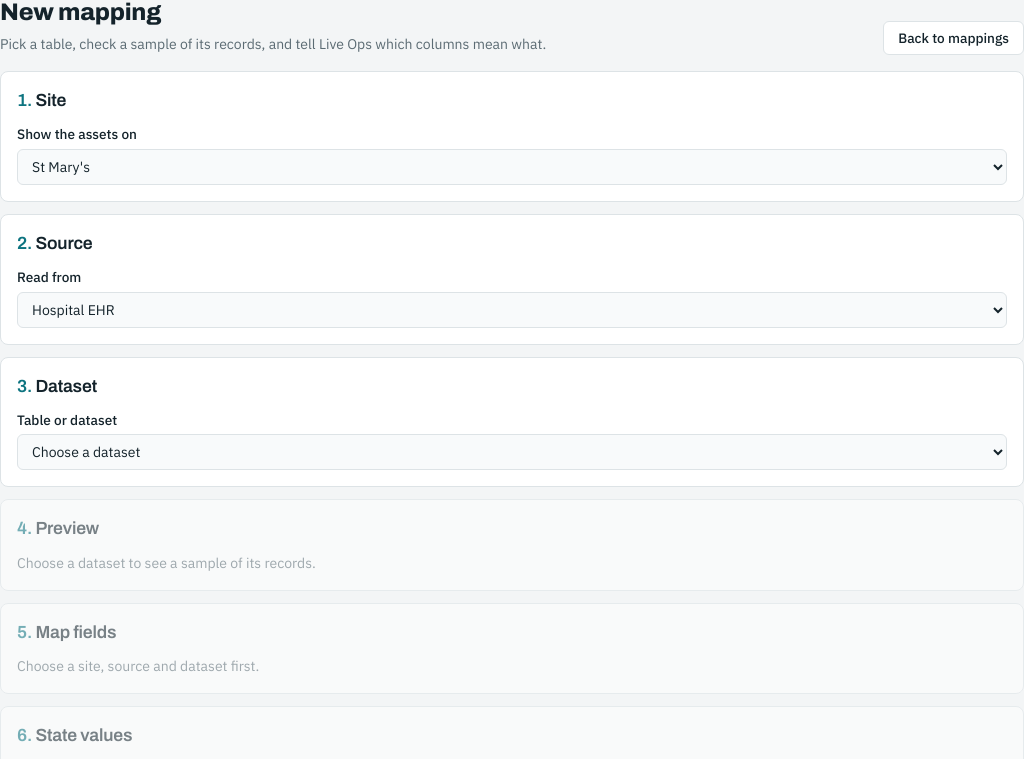
Scenario: client-side checks and API 422 problems are shown inline
Select "public.beds (5 columns)" in the dropdown labelled "Table or dataset": (512, 452) [17,434,1007,470]
(page scrolled)
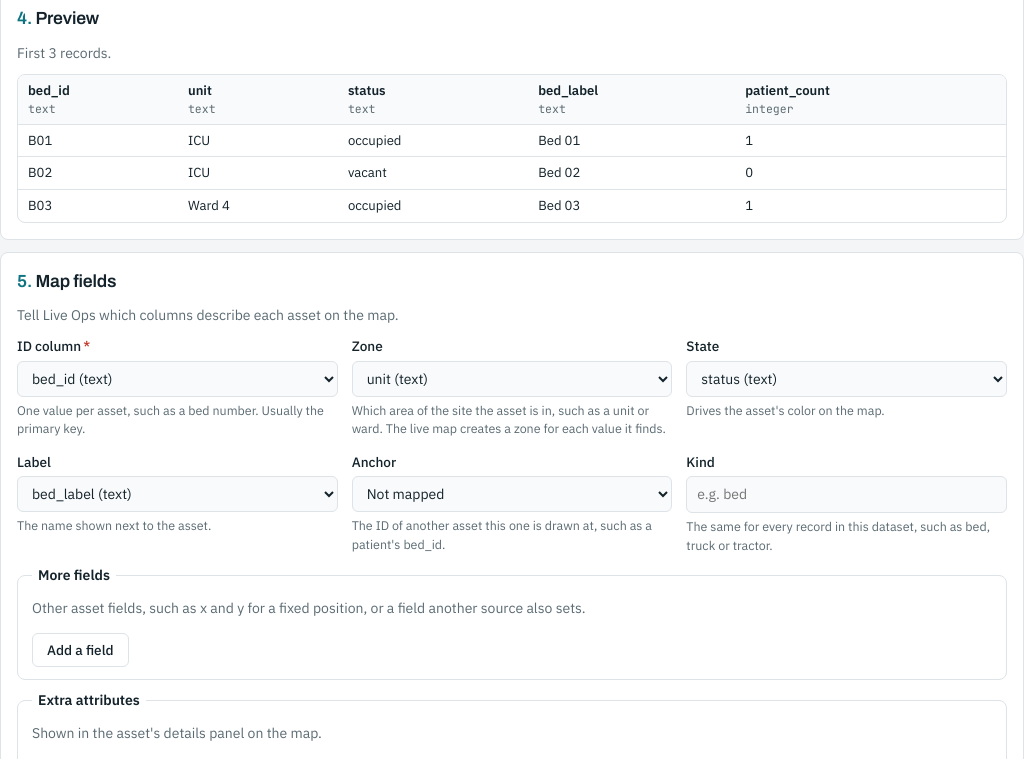
Now the element named "Preview of records" is shown, box [17,74,1007,223]
Select "Choose a column" in the dropdown labelled "ID column*": (177, 378) [17,360,338,396]
(page scrolled)
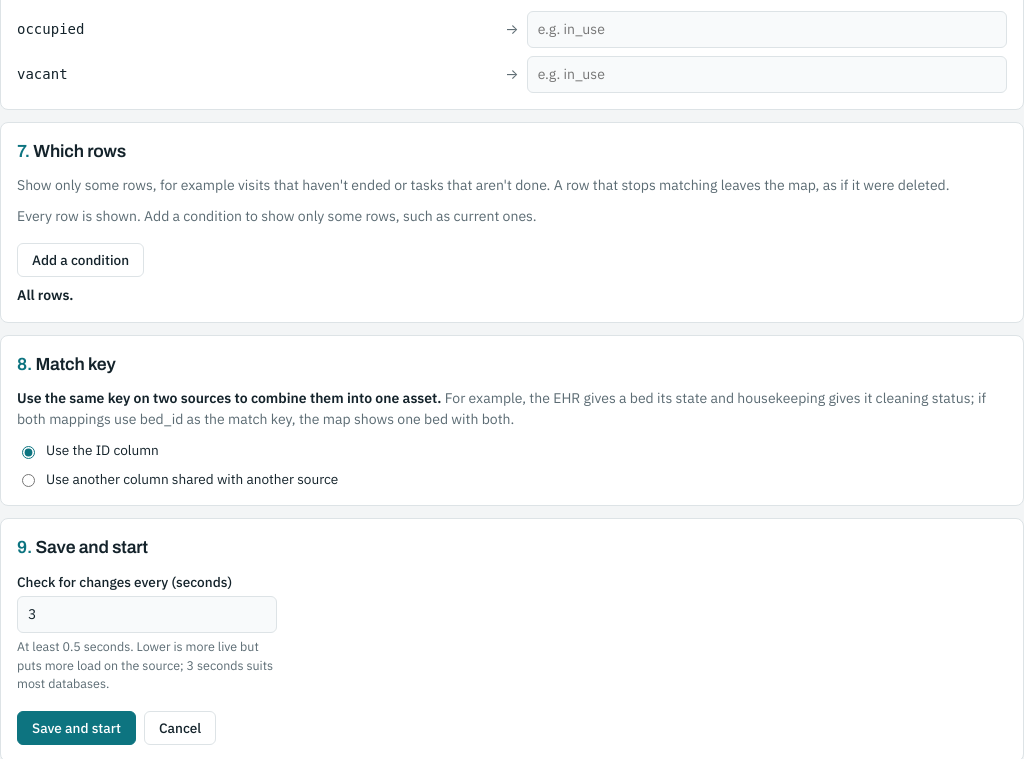
Replace the text in the field labelled "Check for changes every (seconds)" with "0.2": (147, 614) [17,596,277,633]
Click the button "Save and start": (76, 728) [17,711,136,745]
(page scrolled)
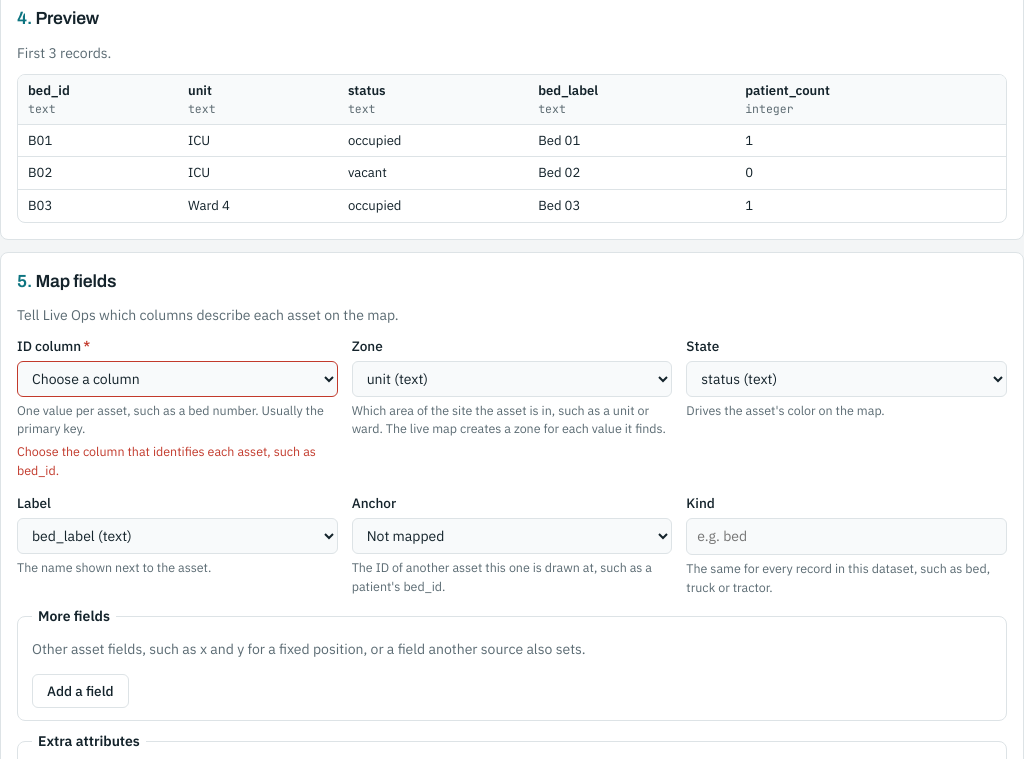
Now the text "Choose the column that identifies each asset" is shown, box [17,443,316,478]
Select "bed_id (text)" in the dropdown labelled "ID column*": (177, 378) [17,360,338,396]
(page scrolled)
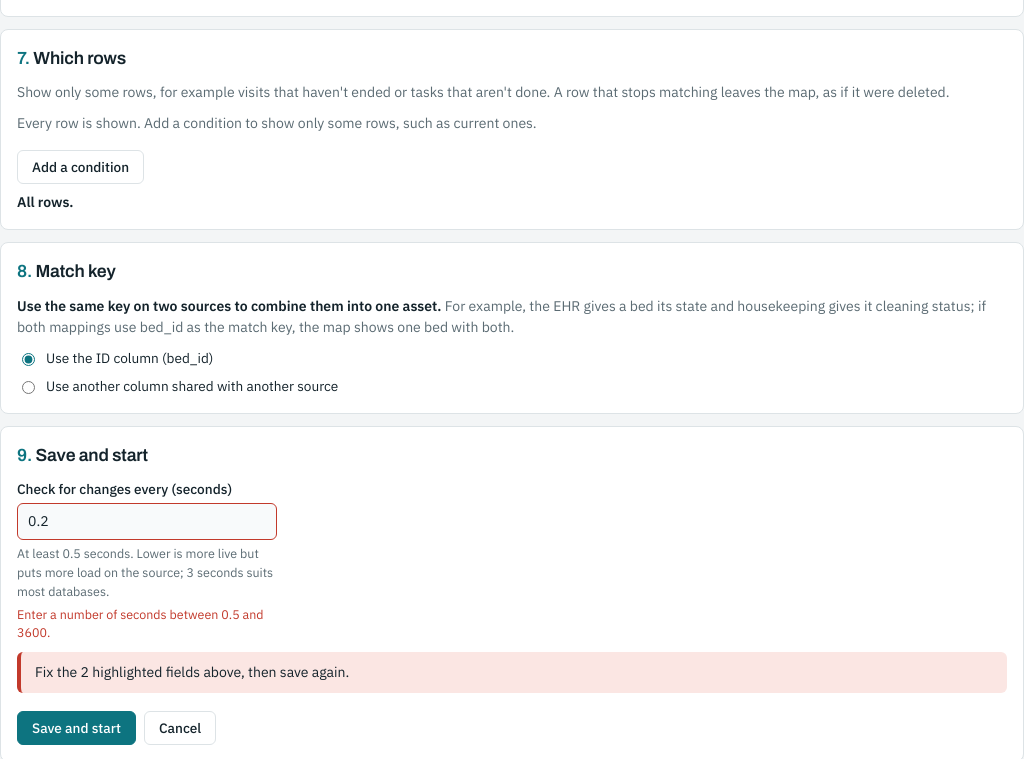
Replace the text in the field labelled "Check for changes every (seconds)" with "3": (147, 522) [17,503,277,540]
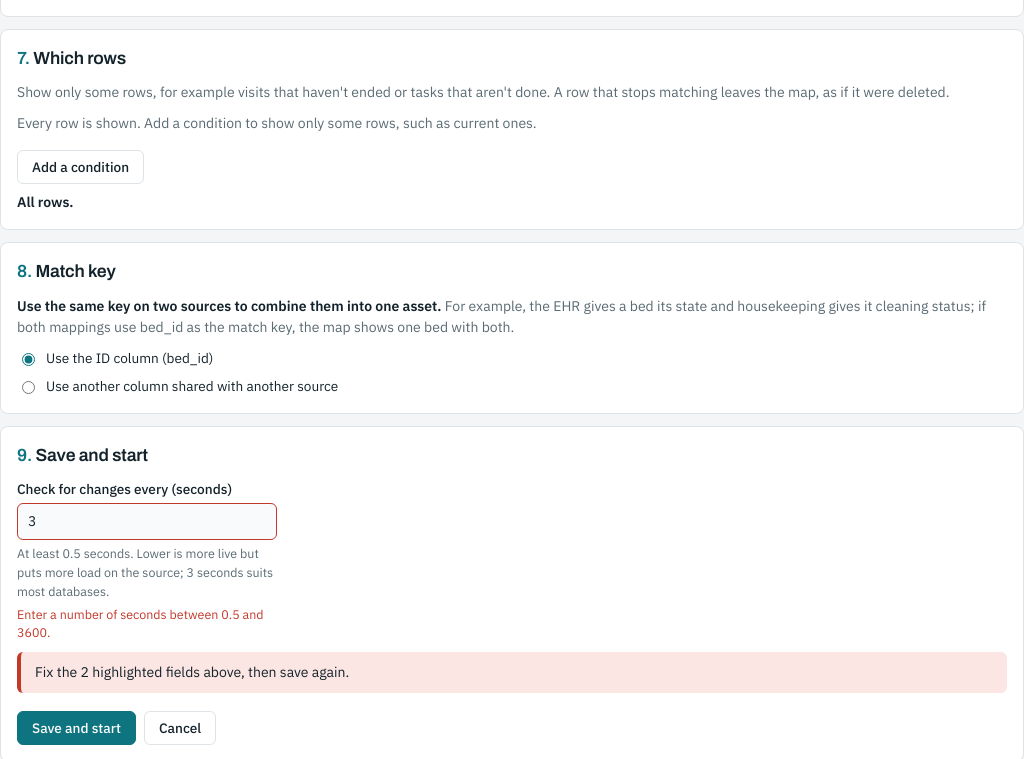
Click the button "Save and start": (76, 728) [17,711,136,745]
(page scrolled)
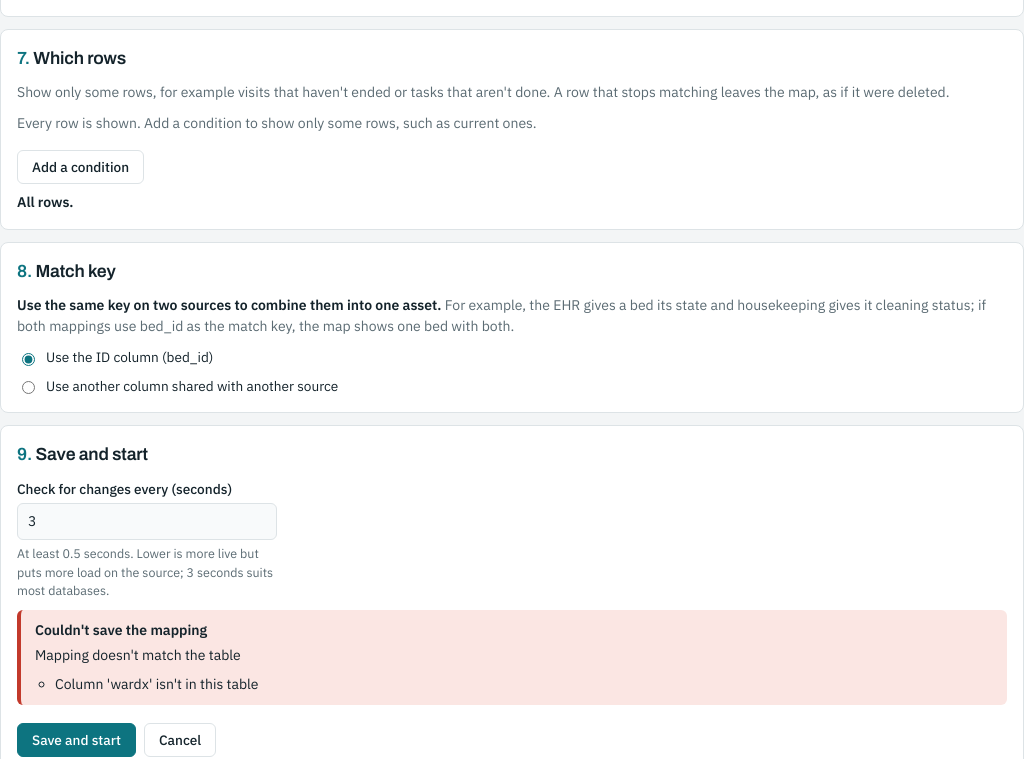
Now the text "Couldn't save the mapping" shows "Mapping doesn't match the table", box [35,646,241,664]
Now the list item "Column 'wardx' isn't in this table" is shown, box [55,675,259,693]
